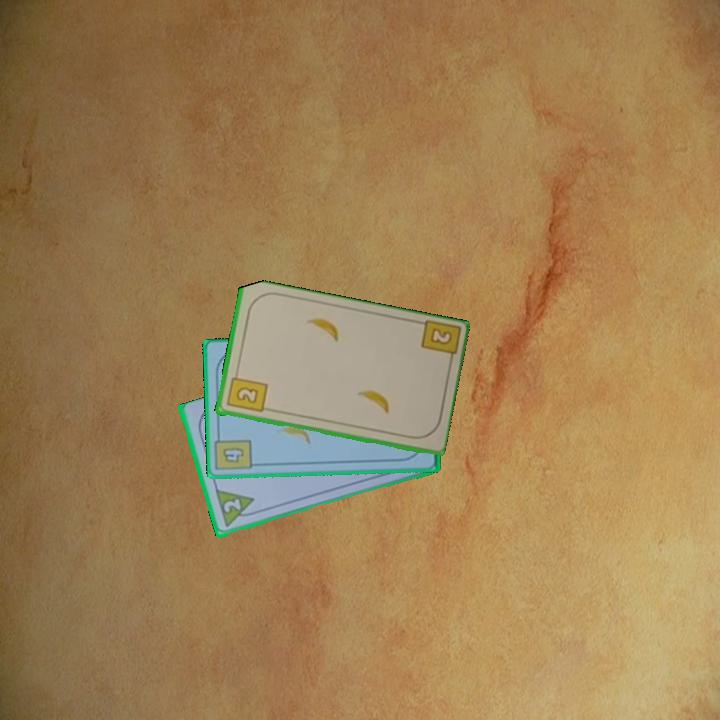2b: (223, 368, 270, 415), (417, 318, 461, 368)
2p: (220, 495, 244, 516)
4b: (213, 430, 256, 474)
